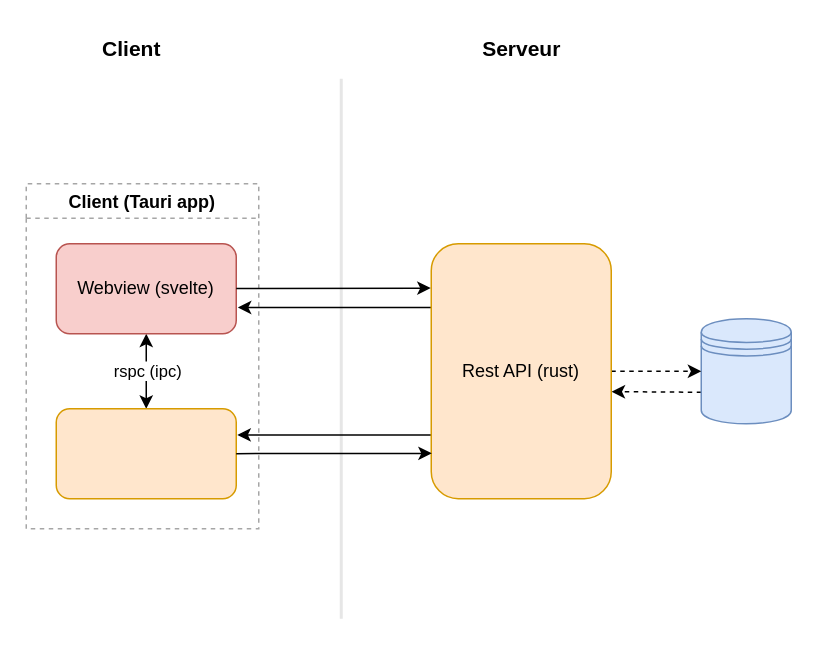
This 818x647 diagram has some shape labels left out. The centre of each missing label's shape, as x and y in pixels:
PostgreSQL: (745,370)
Rust backend: (145,453)
